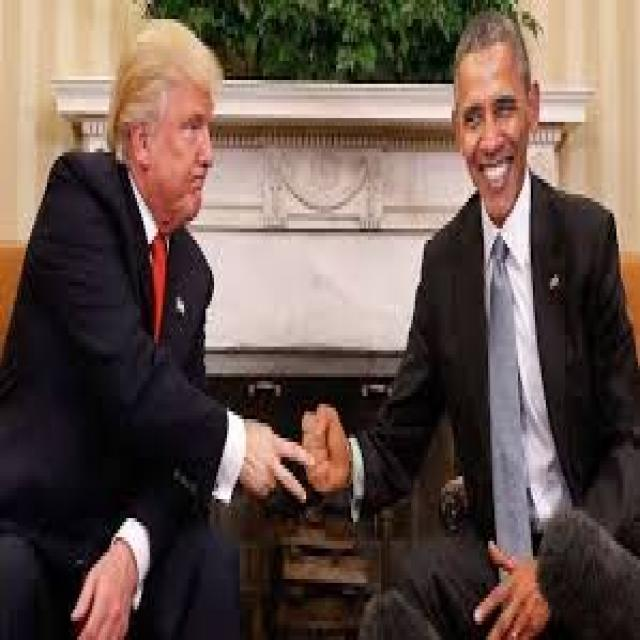rock: (304, 405, 349, 497)
scissors: (243, 430, 315, 509)
